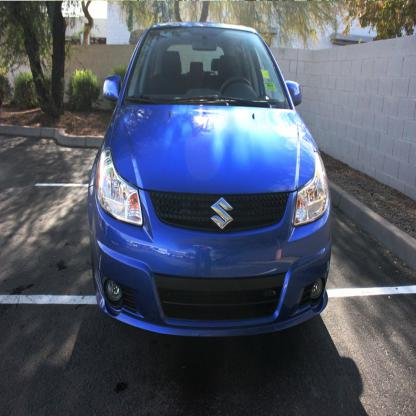Vehicle: (88, 22, 332, 340)
